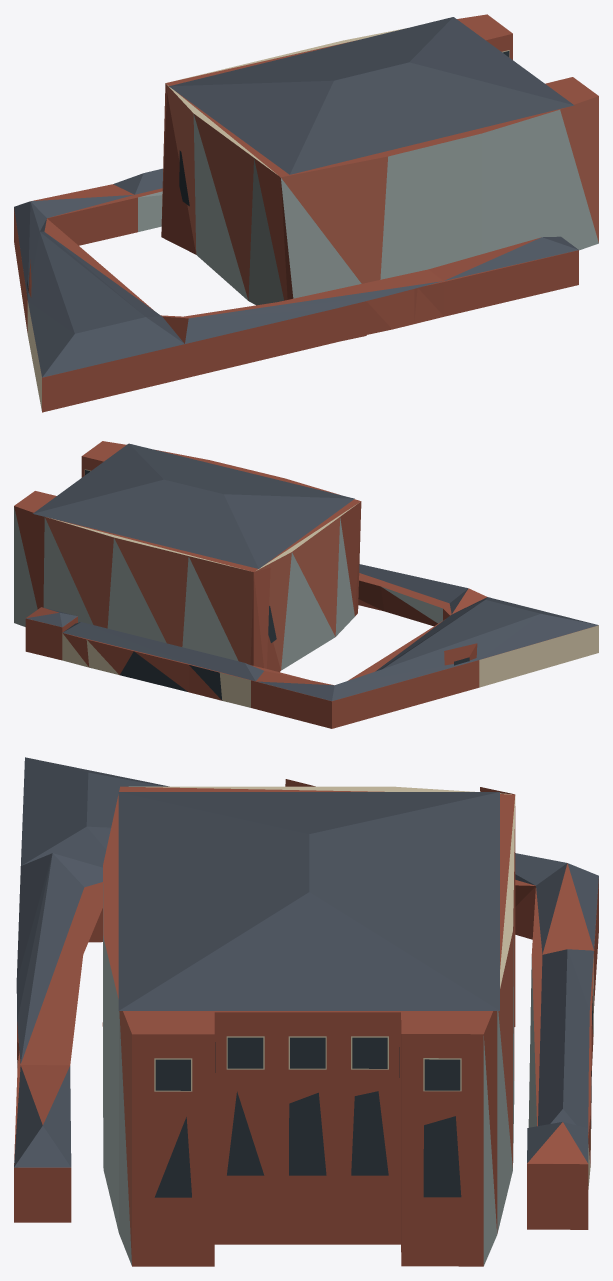
The model's file is portuguese-synagogue.lod2.glb.
3 renders of one model, top to bottom at view 1: azimuth 30°, elevation 25°; view 2: azimuth 150°, elevation 25°; view 3: azimuth 270°, elevation 25°, orthographic. The views are drawn at different scales.
Visible parts, largest first — view 1: lod2; view 2: lod2; view 3: lod2.
Part boxes in pixels (<box>): lod2: <box>14,14,598,412</box>; lod2: <box>14,441,598,728</box>; lod2: <box>14,757,598,1266</box>.
Bounding box in the file's own units: 80.17 × 22.35 × 43.57.
